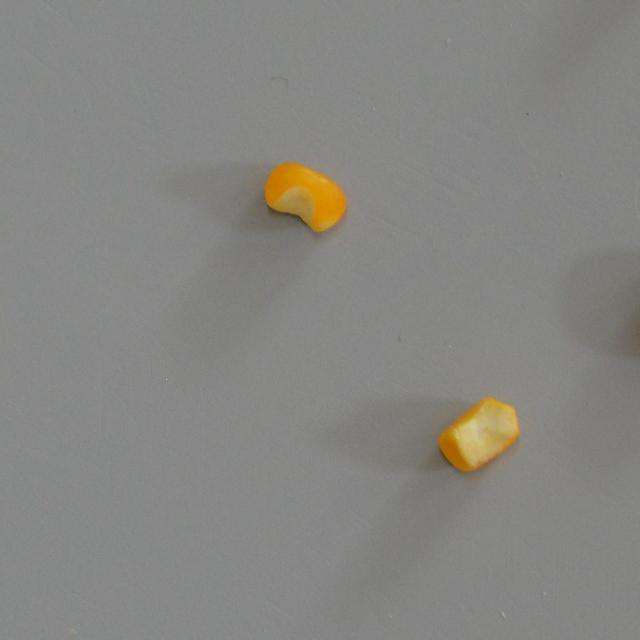no_canjicado: (436, 395, 521, 472), (263, 158, 347, 233)
